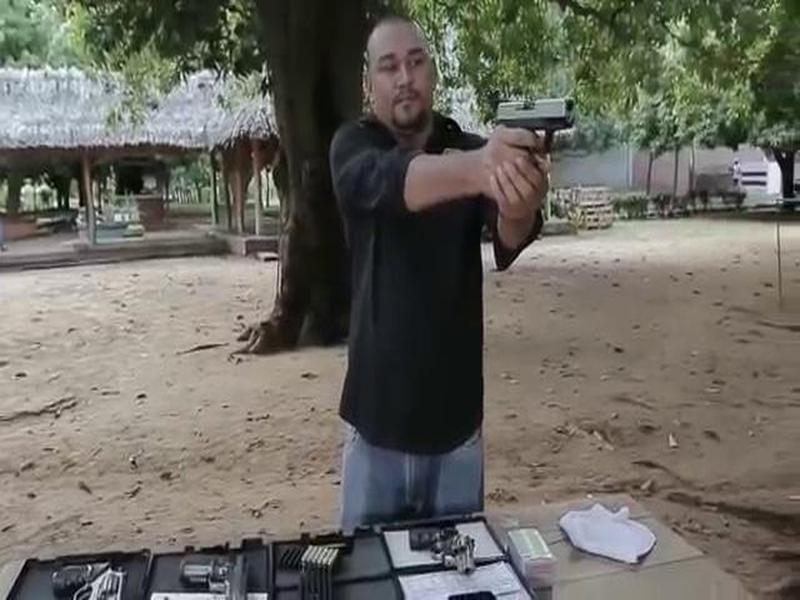Pistola: (489, 90, 585, 170)
